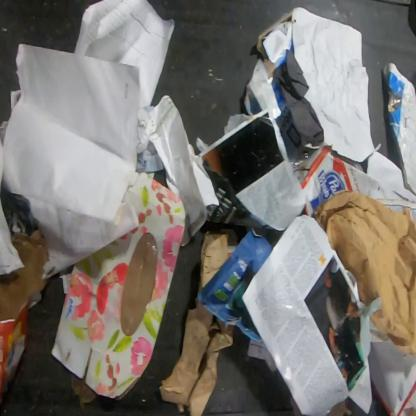cardboard: (50, 171, 187, 415), (157, 296, 236, 415), (194, 227, 273, 344), (244, 10, 294, 120), (0, 228, 50, 323), (197, 230, 229, 293)
